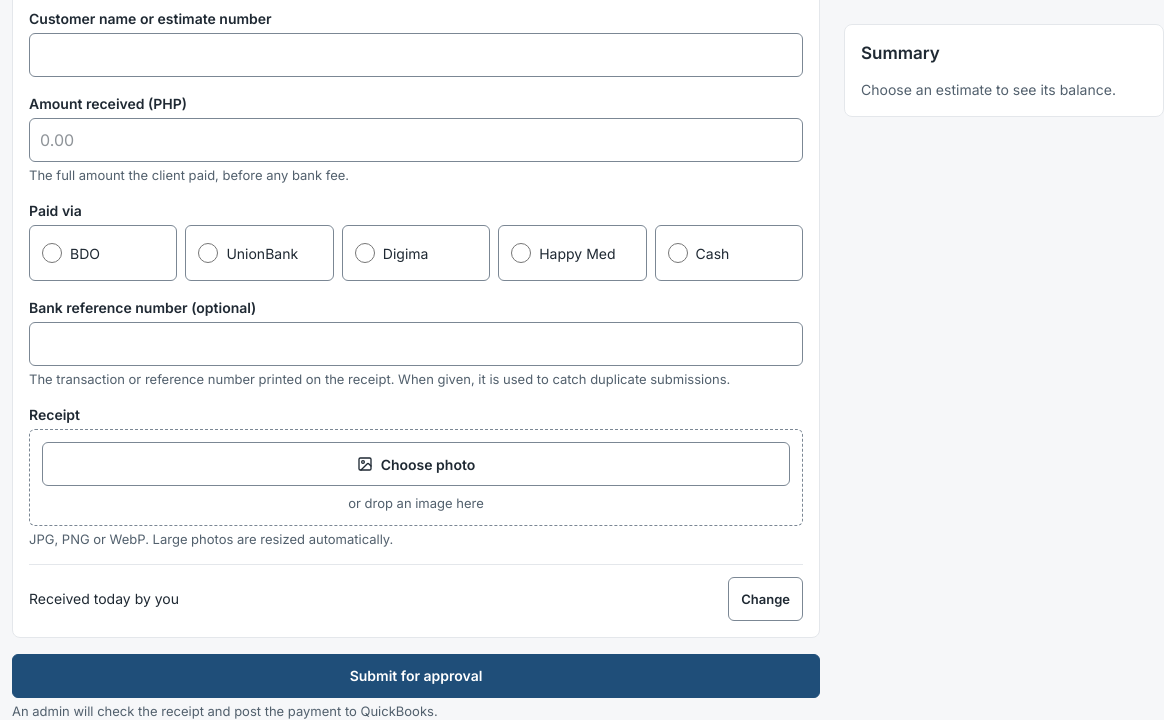
SubmitPaymentPage › keeps the submit button enabled and explains what is missing instead
(page scrolled)
Click the button "Submit for approval" at coordinates (416, 676), box [12,654,820,698]
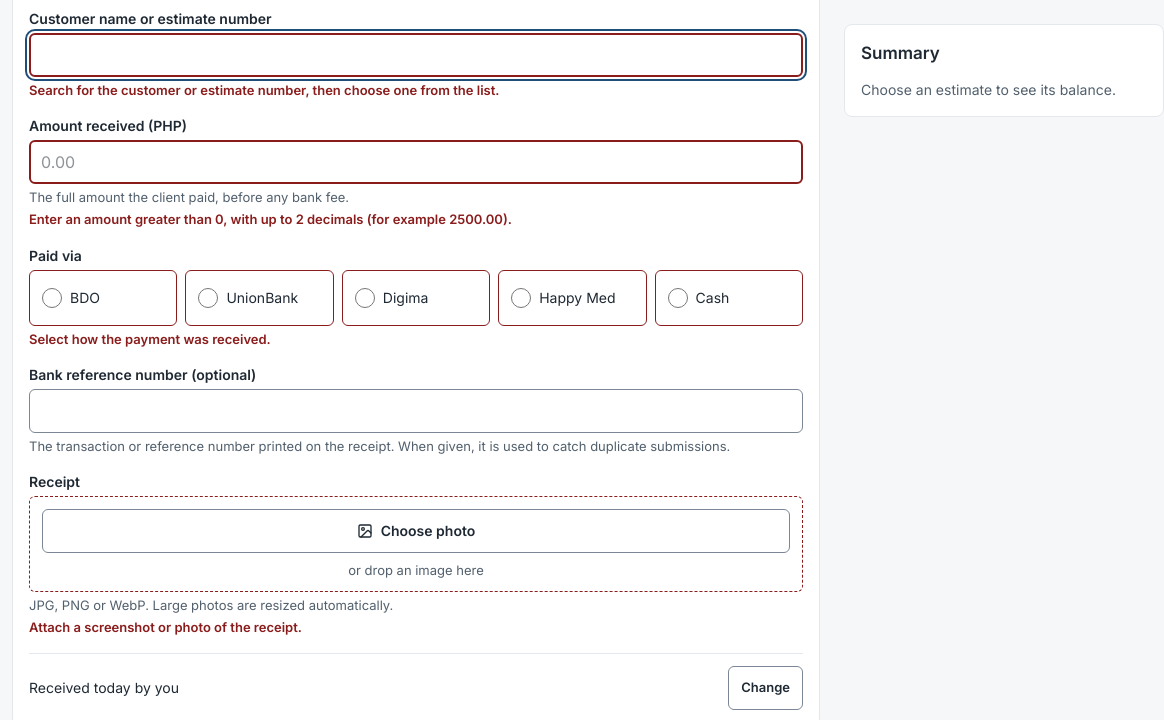
Check: the text "Search for the customer or estimate number" is shown, box [29,82,500,98]
Check: the text "Enter an amount greater than 0" is shown, box [29,211,512,227]
Check: the text "Select how the payment was received." is shown, box [29,331,271,347]
